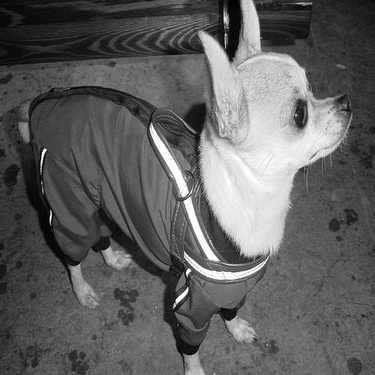dog: (16, 1, 360, 369)
